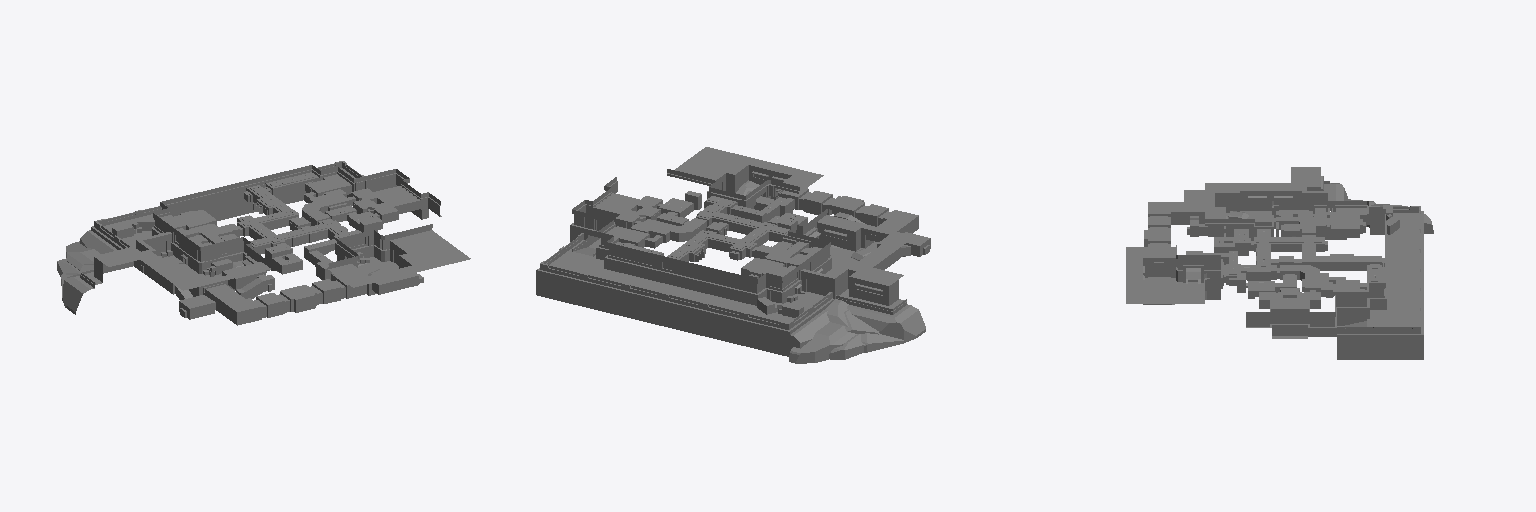
Rendered from cs_office.obj.
3 renders of one model, left to right at view 1: azimuth 30°, elevation 25°; view 2: azimuth 150°, elevation 25°; view 3: azimuth 270°, elevation 25°, orthographic.
Parts seen in each view (by area): view 1: BSP_Object_model_0; view 2: BSP_Object_model_0, BSP_Object_model_10; view 3: BSP_Object_model_0.
Part boxes in pixels (bbox=[...]): BSP_Object_model_0: bbox=[57, 161, 470, 325]; BSP_Object_model_0: bbox=[536, 147, 930, 363]; BSP_Object_model_10: bbox=[546, 237, 826, 323]; BSP_Object_model_0: bbox=[1126, 167, 1433, 359].
Size of the model in its own units: 5136 by 752 by 4038.